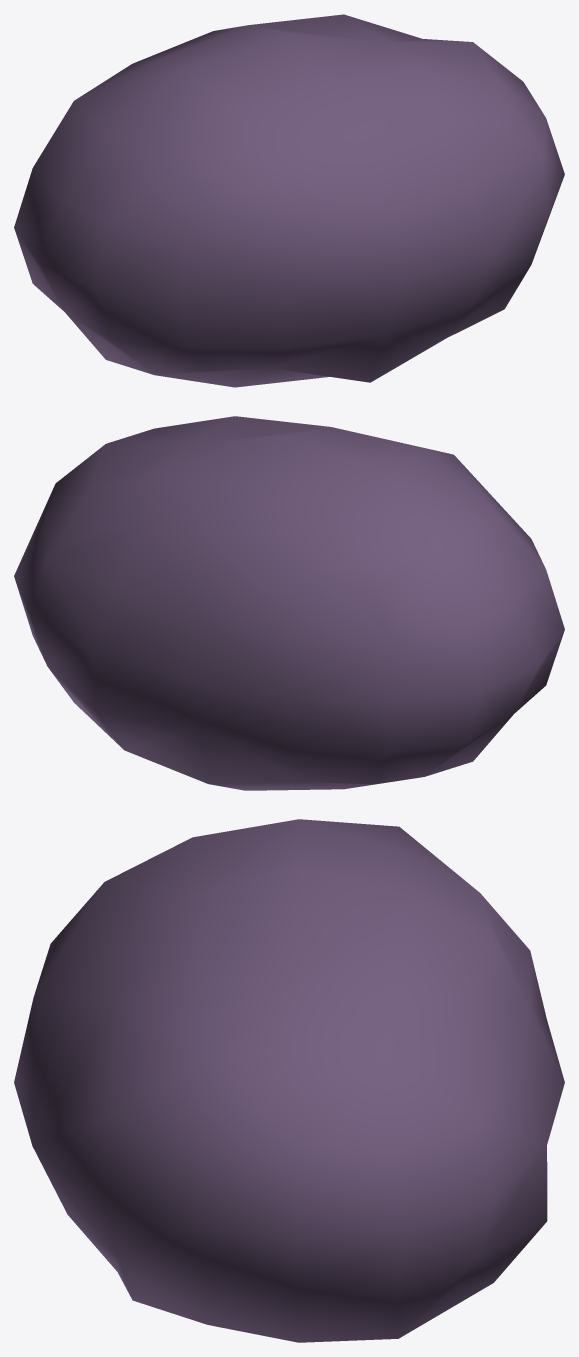
3 views of the same model, one above another, from view 1: azimuth 30°, elevation 25°; view 2: azimuth 150°, elevation 25°; view 3: azimuth 270°, elevation 25° (orthographic). The views are drawn at different scales.
Parts seen in each view (by area): view 1: transp.050; view 2: transp.050; view 3: transp.050.
Part boxes in pixels (box(x1,y1,x2,y2)): transp.050: box(14, 14, 564, 387); transp.050: box(14, 416, 564, 790); transp.050: box(14, 819, 564, 1342).
Bounding box in the file's own units: 0.5 × 0.3074 × 0.3724.
